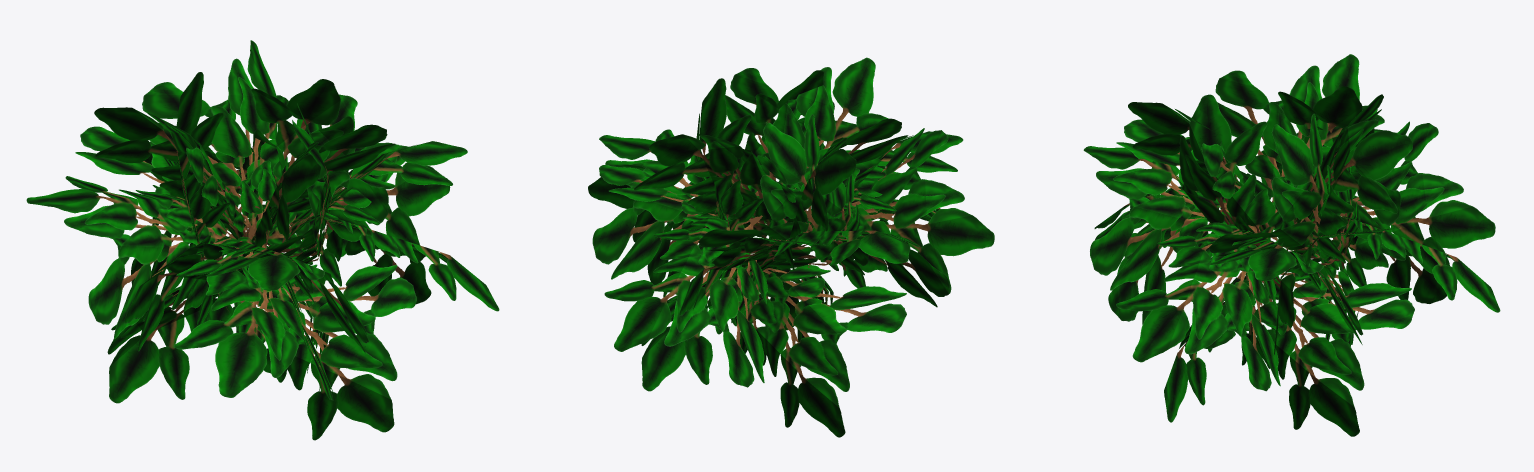
Rendered from Bush 1.fbx.
The picture shows the model from 3 angles, left to right: view 1: azimuth 30°, elevation 25°; view 2: azimuth 150°, elevation 25°; view 3: azimuth 270°, elevation 25°; orthographic projection. The views are drawn at different scales.
Visible parts, largest first — view 1: Bush Branch 1.006; view 2: Bush Branch 1.006; view 3: Bush Branch 1.006.
Boxes of the visible parts, x1=… form: Bush Branch 1.006: x1=26, y1=40, x2=499, y2=440; Bush Branch 1.006: x1=588, y1=57, x2=994, y2=437; Bush Branch 1.006: x1=1083, y1=54, x2=1500, y2=436.
Size of the model in its own units: 6227 by 5005 by 6303.
